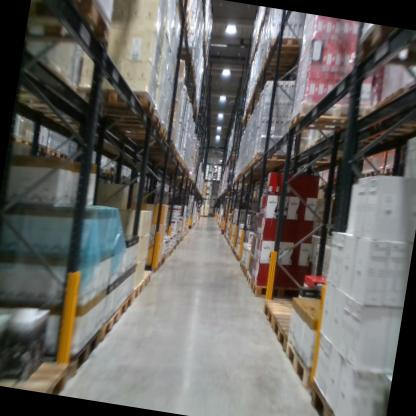pallet: (24, 0, 120, 56), (66, 75, 159, 122), (282, 93, 362, 144), (254, 292, 329, 346), (0, 347, 70, 395), (351, 24, 416, 75), (302, 383, 387, 416), (274, 333, 320, 392), (246, 274, 322, 307), (60, 321, 103, 378), (264, 25, 317, 63), (113, 114, 168, 142), (104, 107, 162, 133), (266, 309, 298, 353), (252, 142, 297, 173), (164, 2, 195, 39), (113, 286, 133, 324), (101, 304, 121, 339), (136, 265, 153, 294), (129, 279, 144, 305), (383, 158, 400, 178), (31, 138, 48, 158), (43, 143, 61, 159), (18, 136, 35, 152), (240, 111, 257, 126), (370, 165, 384, 183), (356, 170, 371, 183), (150, 258, 161, 273), (154, 252, 165, 267), (98, 164, 111, 175), (160, 249, 170, 261), (243, 271, 250, 287), (242, 263, 249, 278), (236, 259, 244, 272), (58, 150, 68, 160), (248, 156, 255, 167)
